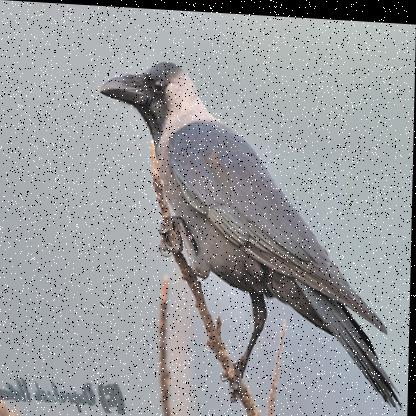Burung: (95, 56, 409, 406)
